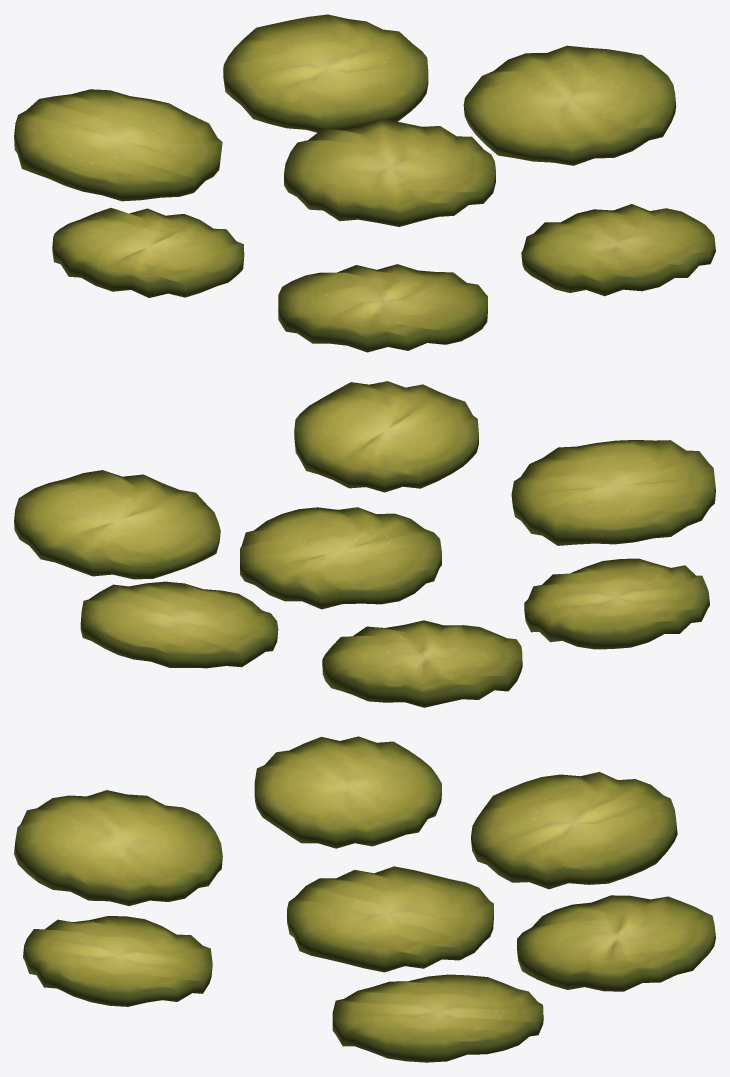
Rendered from pepinillos.glb.
3 views of the same model, one above another, from view 1: azimuth 30°, elevation 25°; view 2: azimuth 150°, elevation 25°; view 3: azimuth 270°, elevation 25° (orthographic). The views are drawn at different scales.
Visible parts, largest first — view 1: pepinillos; view 2: pepinillos; view 3: pepinillos.
Boxes of the visible parts, bbox=[...] form: pepinillos: bbox=[14, 14, 715, 352]; pepinillos: bbox=[14, 381, 715, 707]; pepinillos: bbox=[14, 736, 715, 1062].
Bounding box in the file's own units: 2.26 × 0.1309 × 2.16.
1 material, 1 textured.
